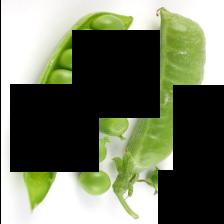green: (19, 12, 132, 211), (112, 8, 204, 219), (71, 137, 109, 167), (136, 167, 175, 196), (95, 111, 127, 140), (78, 169, 110, 196)
